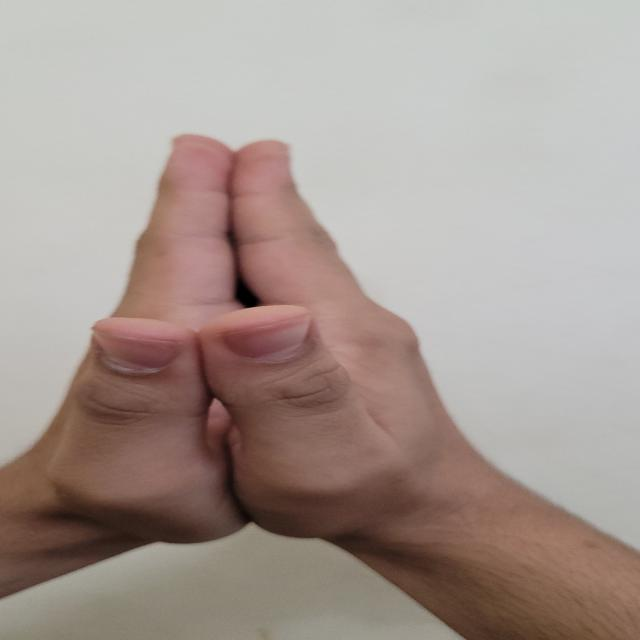Thank You: (4, 120, 484, 563)
